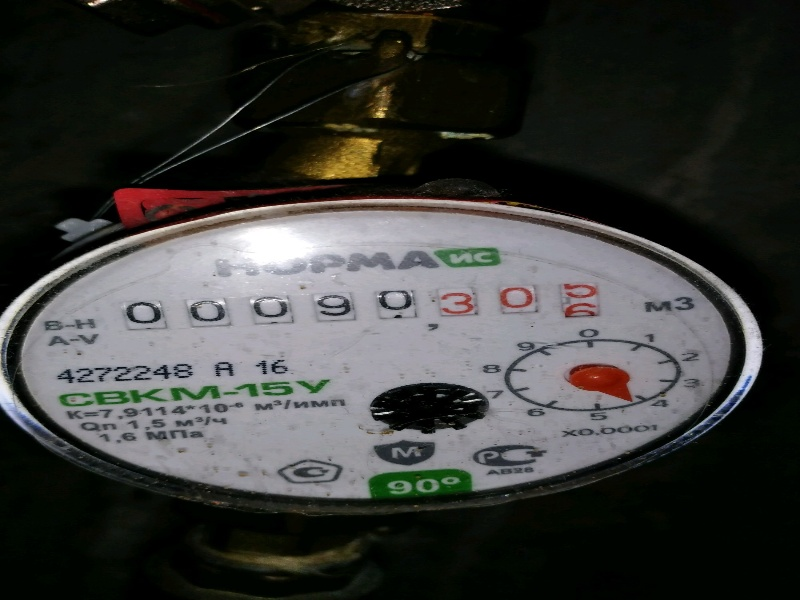meter: (115, 279, 627, 326)
